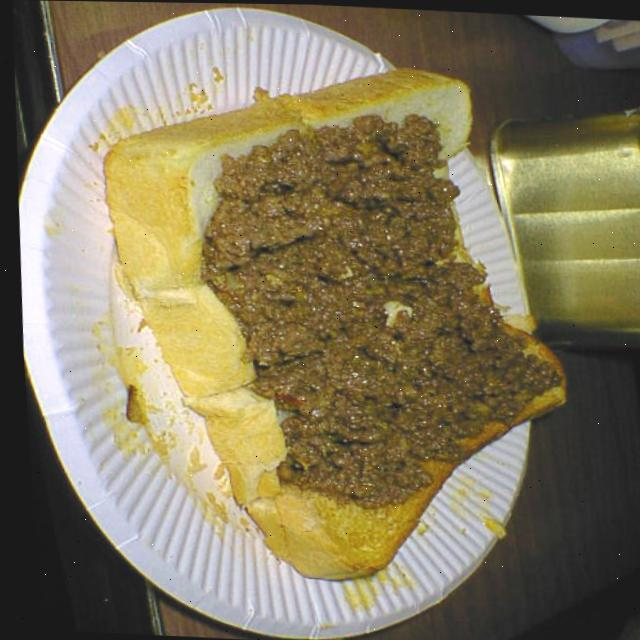面包点心: (82, 53, 590, 595)
